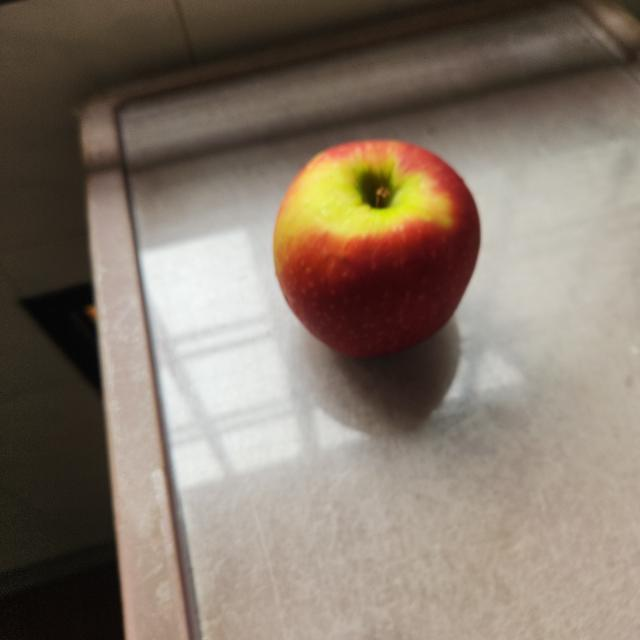apple: (268, 130, 482, 377)
